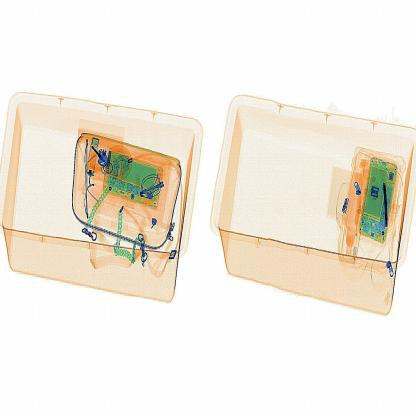knife: (378, 180, 400, 236)
